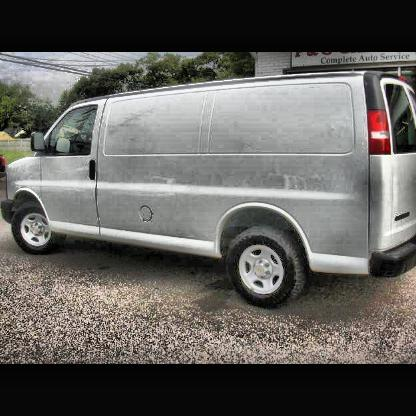Chevrolet Express Cargo Van 2007: (2, 65, 416, 307)
